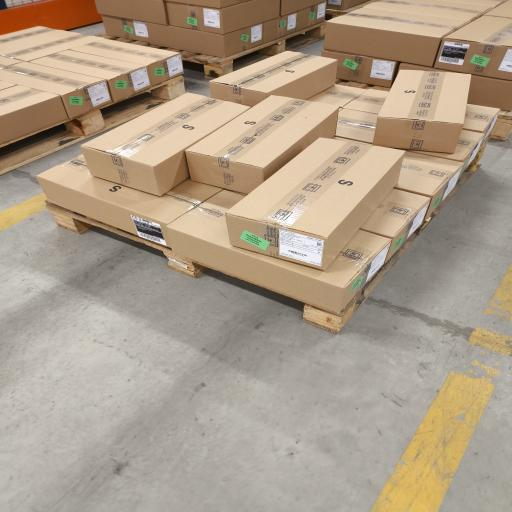pallet: (303, 164, 480, 333), (303, 164, 479, 333), (0, 76, 184, 174), (97, 22, 325, 79), (46, 201, 206, 277), (336, 79, 390, 91), (491, 111, 511, 140)
